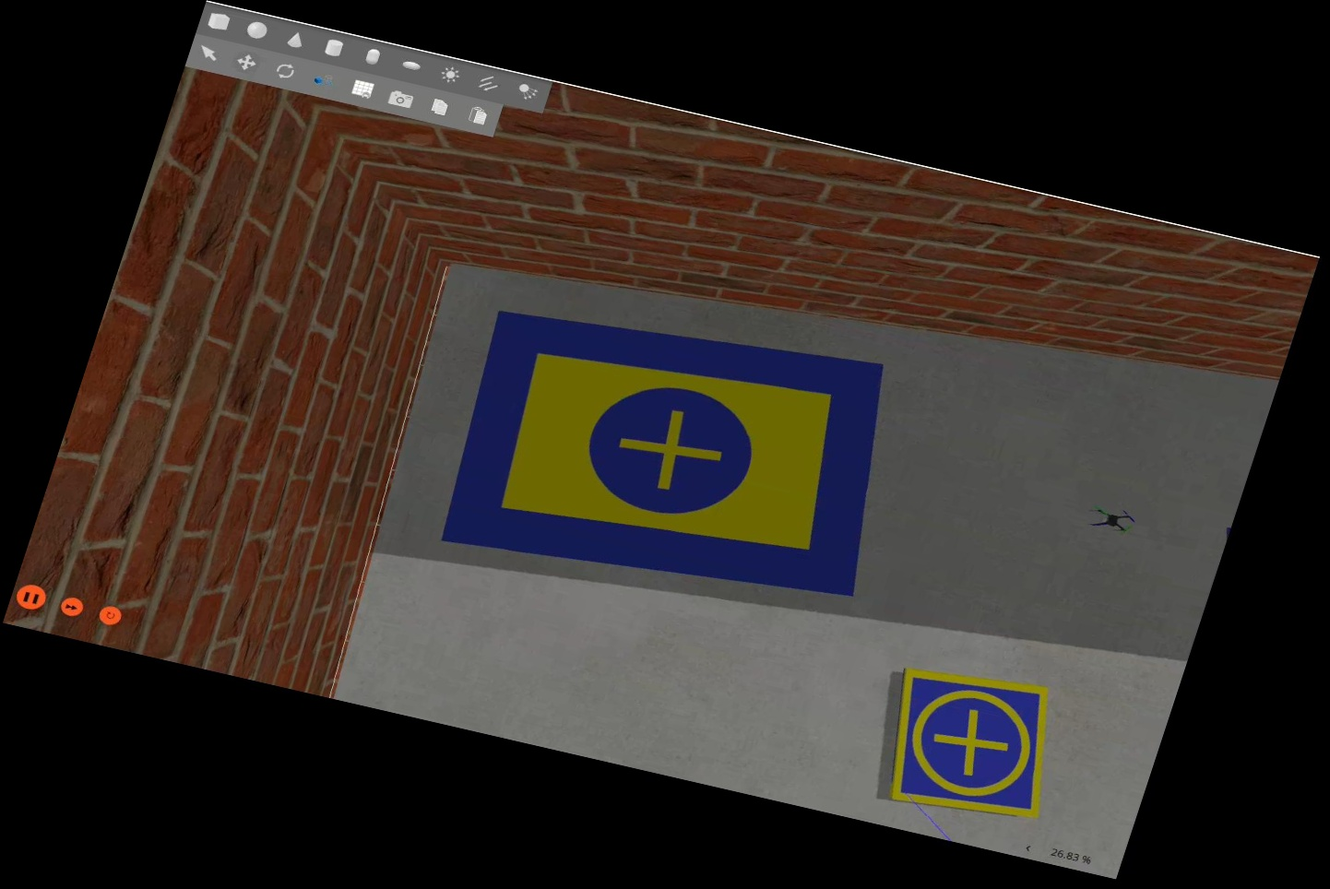large_base: (423, 279, 924, 634)
small_base: (862, 656, 1082, 833)
